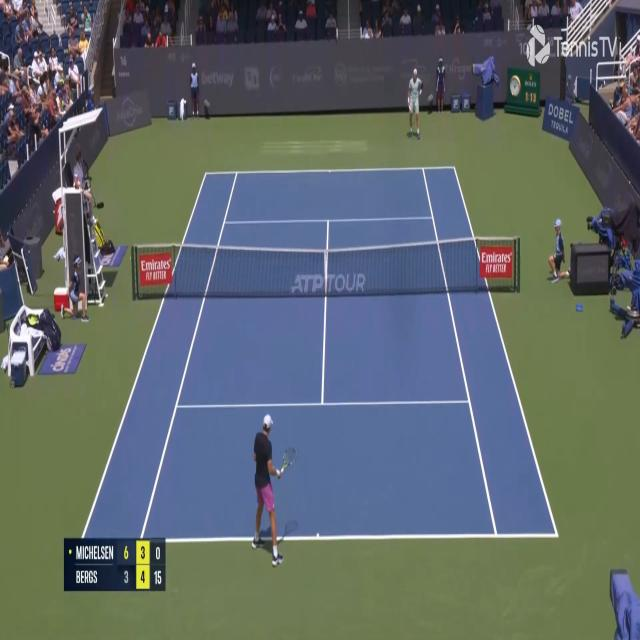tennis-player: (248, 412, 296, 572), (407, 67, 422, 140)
